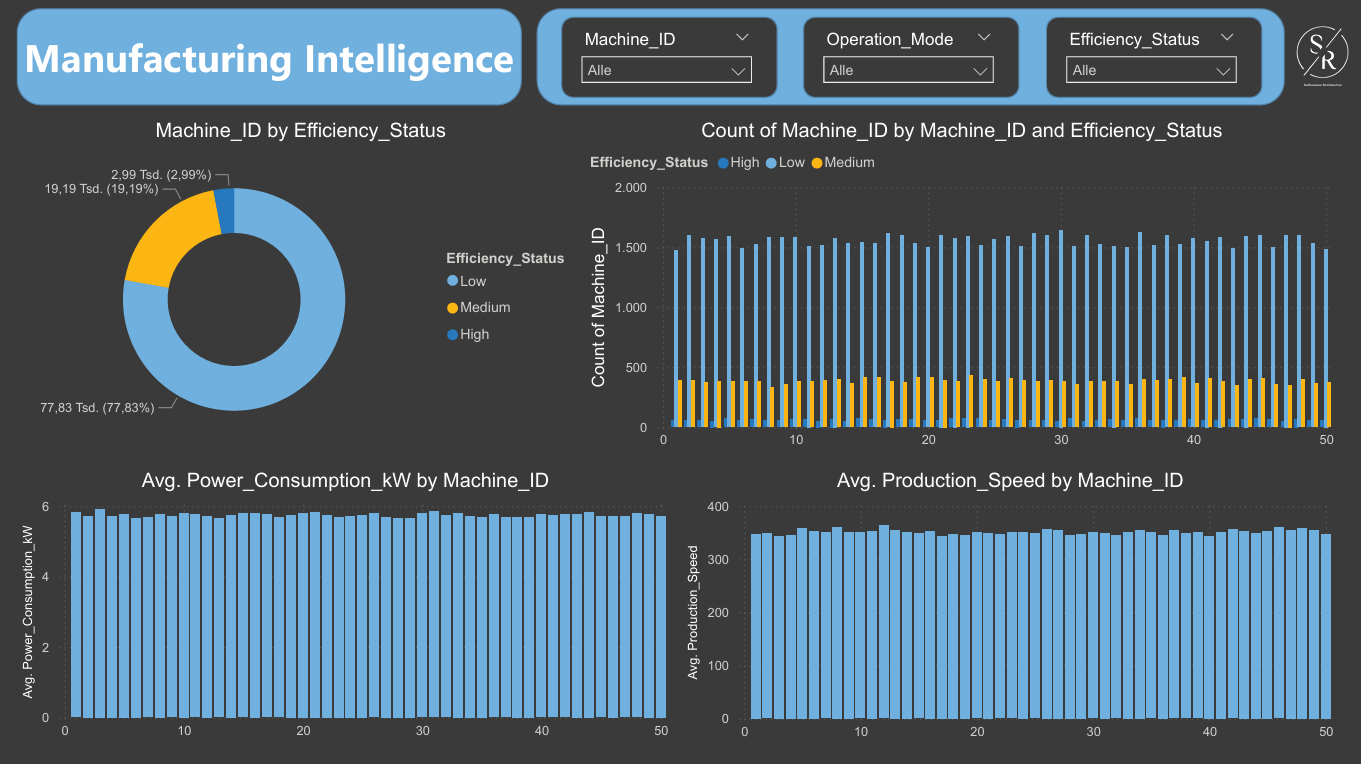

This screenshot's page, from the dashboard's own definition file:
{"tool":"powerbi","page":{"name":"Machine_Perf","canvas":[1280,720],"ordinal":1},"visuals":[{"type":"donutChart","title":"Machine_ID by Efficiency_Status","fields":{"Category":["Intelligent Manufacturing.Efficiency_Status"],"Y":["CountNonNull(Intelligent Manufacturing.Machine_ID)"]},"box":[18.1,113.8,532.9,316.8],"z":0},{"type":"shape","box":[529.4,17.9,202.9,75.9],"z":1000,"group":"g1"},{"type":"clusteredColumnChart","title":"Count of Machine_ID by Machine_ID and Efficiency_Status","fields":{"Y":["CountNonNull(Intelligent Manufacturing.Machine_ID)"],"Series":["Intelligent Manufacturing.Efficiency_Status"],"Category":["Intelligent Manufacturing.Machine_ID"]},"box":[551,113.8,707.8,316.8],"z":1000},{"type":"image","box":[1207.4,6.6,72.6,94],"z":2000},{"type":"slicer","fields":{"Values":["Intelligent Manufacturing.Machine_ID"]},"box":[538.7,25.2,179.3,62.9],"z":2000,"group":"g1"},{"type":"clusteredColumnChart","title":"Avg. Power_Consumption_kW by Machine_ID","fields":{"Y":["Avg(Intelligent Manufacturing.Power_Consumption_kW)"],"Category":["Intelligent Manufacturing.Machine_ID"]},"box":[18.1,442.2,617,260.7],"z":3000},{"type":"clusteredColumnChart","title":"Avg. Production_Speed by Machine_ID","fields":{"Category":["Intelligent Manufacturing.Machine_ID"],"Y":["Avg(Intelligent Manufacturing.Production_Speed_units_per_hr)"]},"box":[641.8,442.2,617,262.3],"z":4000},{"type":"shape","box":[506.5,9.9,701.2,90.7],"z":5000},{"type":"shape","box":[18.1,9.9,473.5,90.7],"z":6000},{"type":"group","id":"g1","title":"Gruppe 1","box":[529.4,17.9,202.9,75.9],"z":7000},{"type":"group","id":"g2","title":"Gruppe 2","box":[756.4,17.5,202.9,75.9],"z":8000},{"type":"shape","box":[756.4,17.5,202.9,75.9],"z":9000,"group":"g2"},{"type":"group","id":"g3","title":"Gruppe 3","box":[983.5,18.1,202.9,75.9],"z":9000},{"type":"slicer","fields":{"Values":["Intelligent Manufacturing.Operation_Mode"]},"box":[765.7,24.8,179.3,62.9],"z":10000,"group":"g2"},{"type":"shape","box":[983.5,18.1,202.9,75.9],"z":11000,"group":"g3"},{"type":"slicer","fields":{"Values":["Intelligent Manufacturing.Efficiency_Status"]},"box":[992.8,25.4,179.3,62.9],"z":12000,"group":"g3"}]}

Visuals, with their boxes in screenshot pixels (x1, y1, x2, y2), scaled from the page's 1280x720 canvas onto the 1361x764 screenshot:
"Machine_ID by Efficiency_Status" donutChart: BBox(19, 121, 586, 457)
shape: BBox(563, 19, 779, 100)
"Count of Machine_ID by Machine_ID and Efficiency_Status" clusteredColumnChart: BBox(586, 121, 1338, 457)
image: BBox(1284, 7, 1360, 107)
slicer - Intelligent Manufacturing.Machine_ID: BBox(573, 27, 763, 93)
"Avg. Power_Consumption_kW by Machine_ID" clusteredColumnChart: BBox(19, 469, 675, 746)
"Avg. Production_Speed by Machine_ID" clusteredColumnChart: BBox(682, 469, 1338, 748)
shape: BBox(539, 11, 1284, 107)
shape: BBox(19, 11, 523, 107)
"Gruppe 1" group: BBox(563, 19, 779, 100)
"Gruppe 2" group: BBox(804, 19, 1020, 99)
shape: BBox(804, 19, 1020, 99)
"Gruppe 3" group: BBox(1046, 19, 1261, 100)
slicer - Intelligent Manufacturing.Operation_Mode: BBox(814, 26, 1005, 93)
shape: BBox(1046, 19, 1261, 100)
slicer - Intelligent Manufacturing.Efficiency_Status: BBox(1056, 27, 1246, 94)
